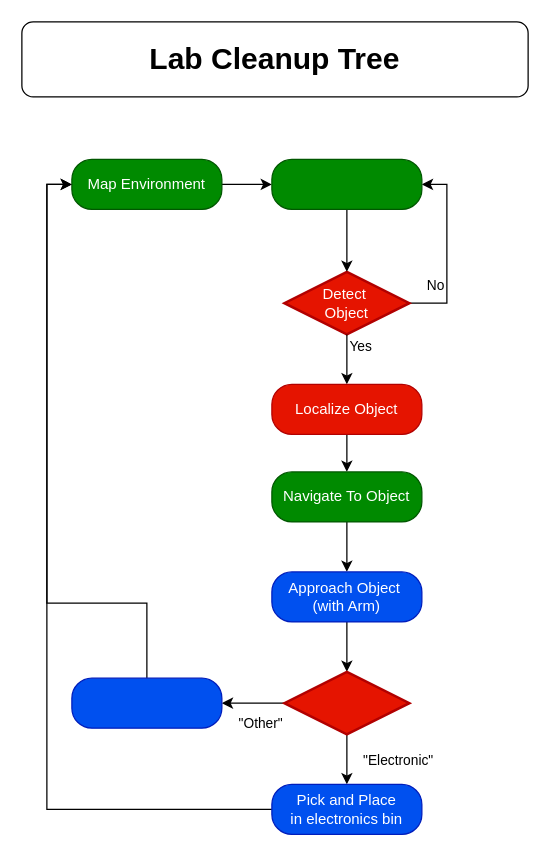
Some shapes in this 550 by 856 pixel diagram are drawn without their labels. Each missing label, with the centre of its shape:
"Classify Object" goes at point 346,702.
"Patrol Environment" goes at point 346,183.
"Pick and Place in other bin" goes at point 146,702.
